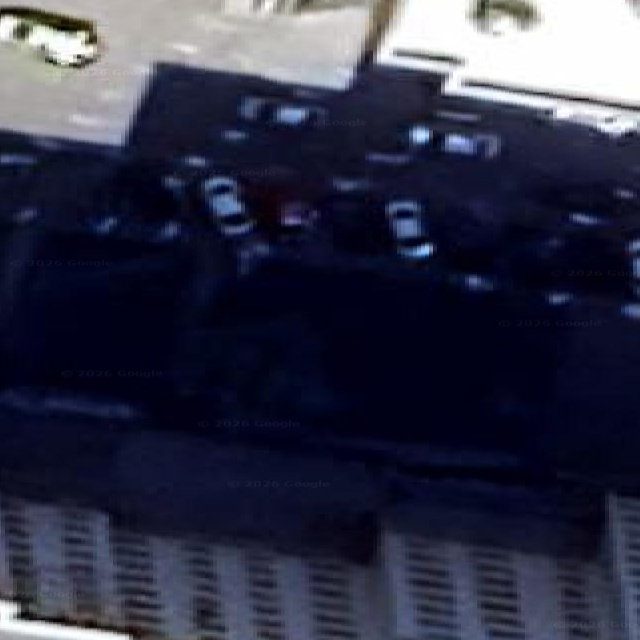car: (0, 6, 101, 66), (201, 175, 255, 236), (407, 124, 500, 158), (385, 199, 434, 259), (238, 96, 326, 127)
